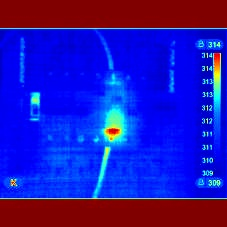Critical: (97, 110, 131, 145)
